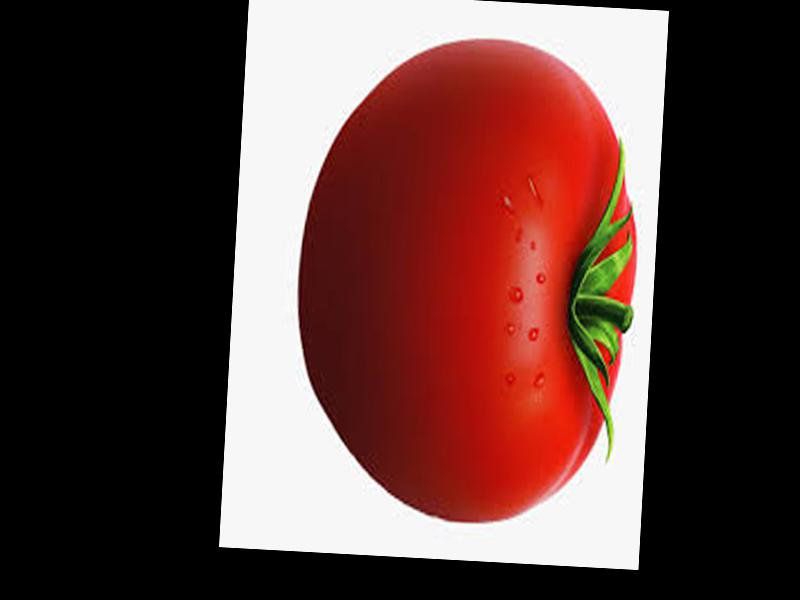Tomato: (285, 87, 644, 530)
